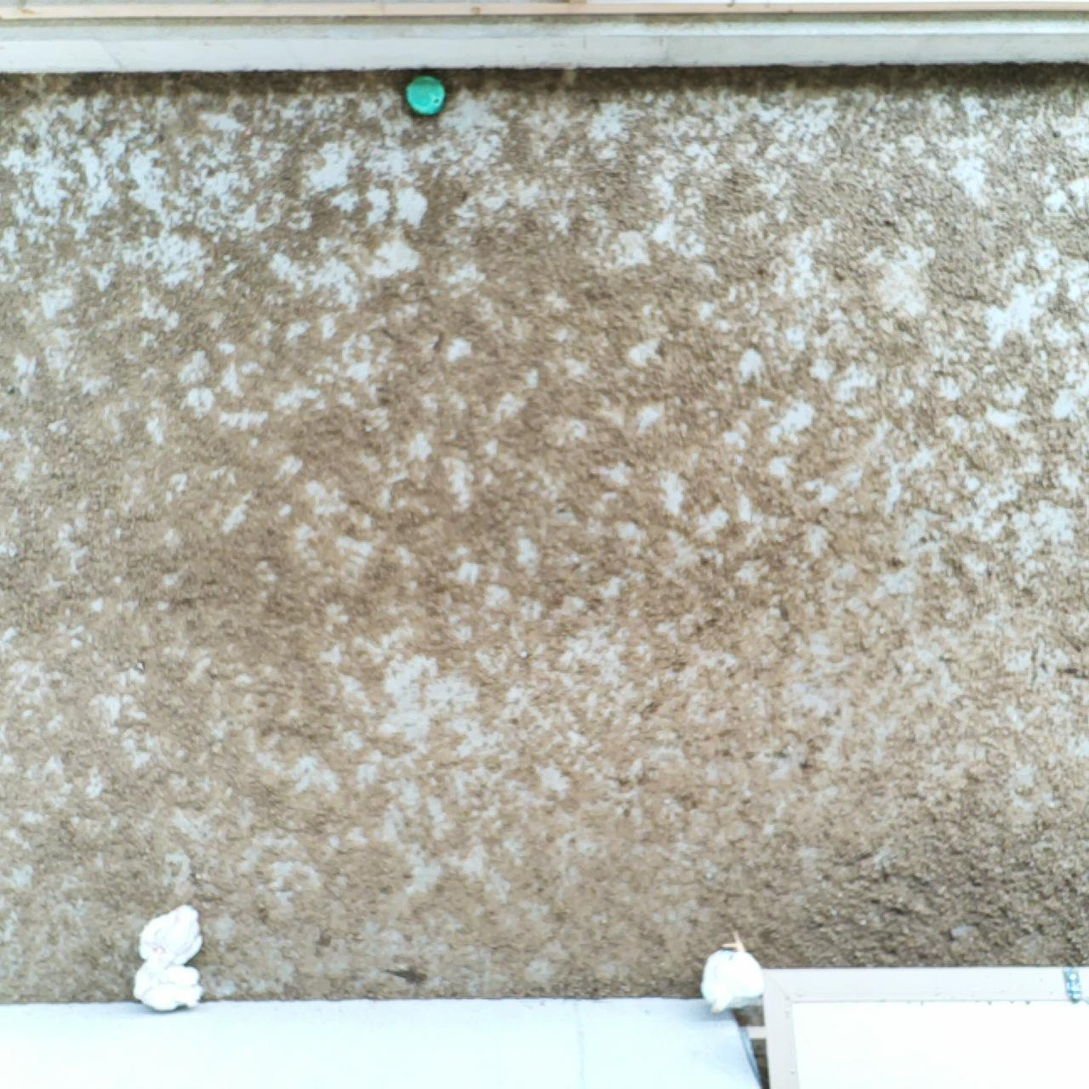chicken: (702, 934, 766, 1013), (139, 905, 201, 967), (132, 966, 204, 1012)
